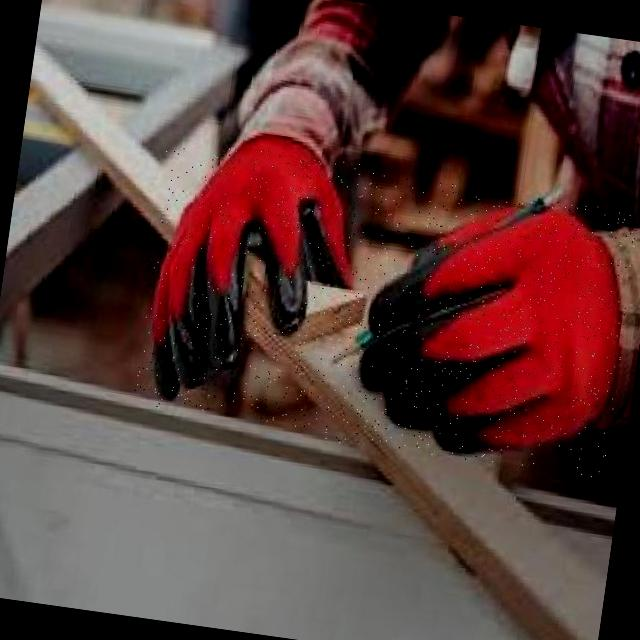gloves: (335, 174, 640, 480), (136, 123, 368, 430)
